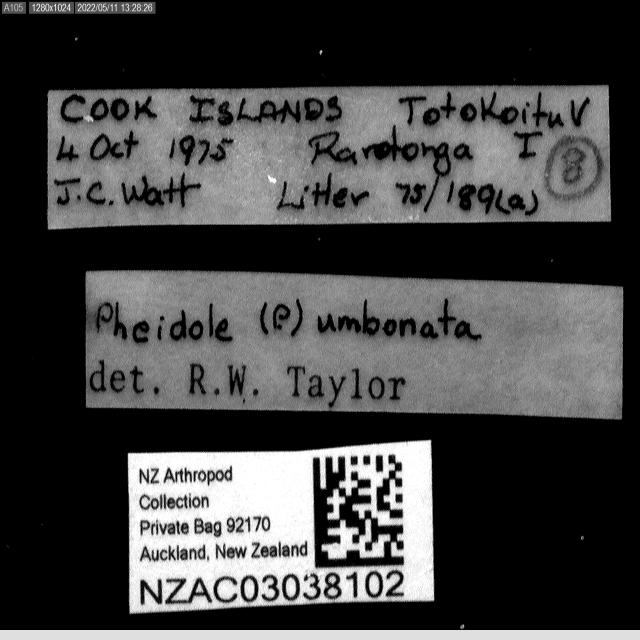hand_label: (48, 86, 610, 228)
mixed_label: (86, 270, 622, 419)
typed_label: (128, 441, 434, 612)
